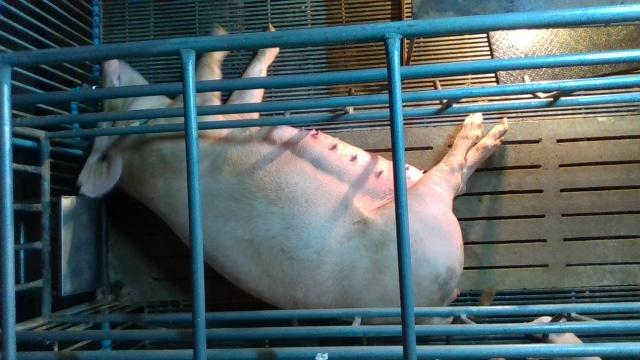sow-sleep-lactate: (79, 25, 508, 325)
